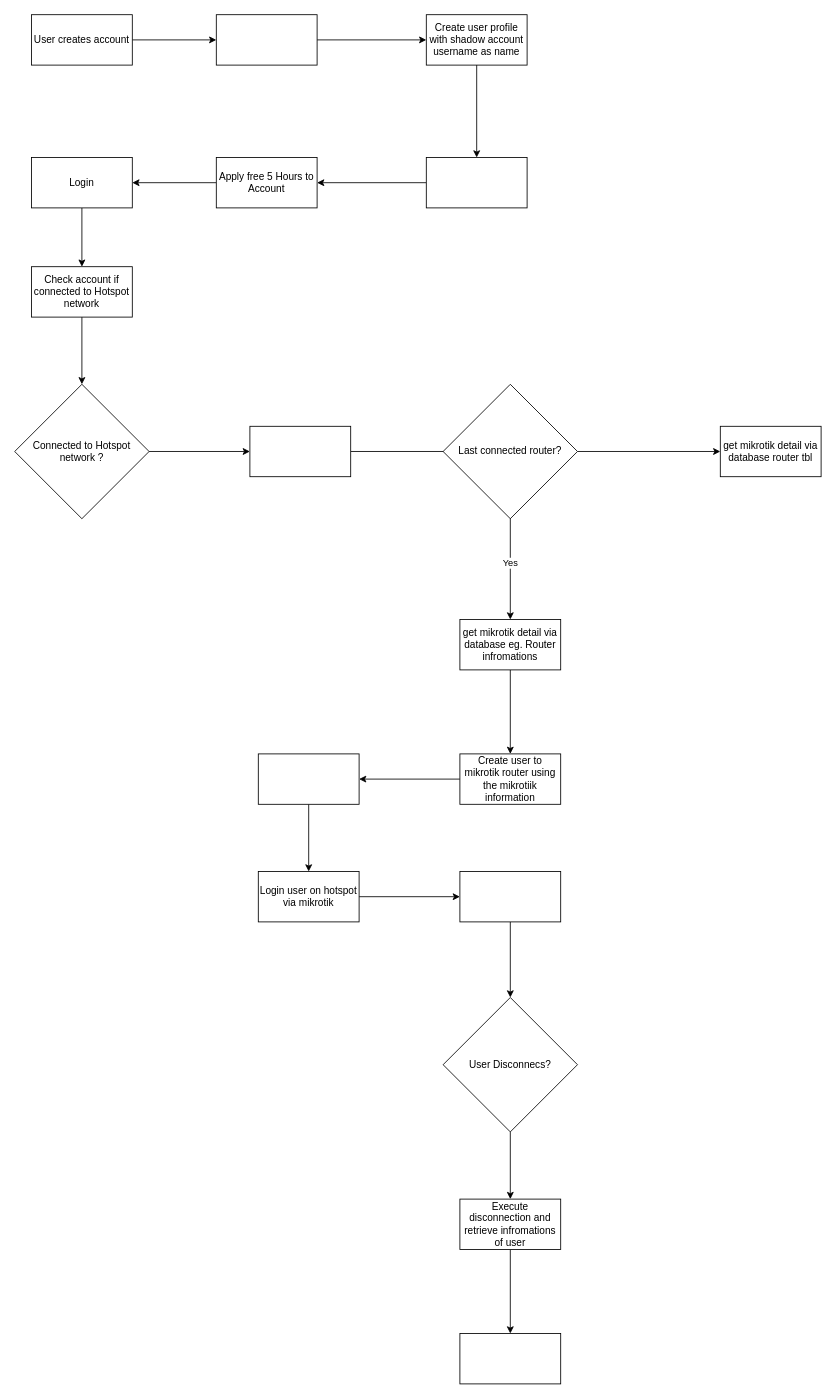
Some shapes in this 836 by 1399 pixel diagram are drawn without their labels. The centre of each missing label's shape, as x and y in pixels:
"Authenticate account and check if last connected router" belongs at (300,451).
"Display account information such as up time other menu." belongs at (510,896).
"Generates Sahadow account for hotspot" belongs at (266,39).
"Obtain IP of user" belongs at (308,778).
"save uptime infromation" belongs at (510,1358).
"Verify Account SMS" belongs at (476,182).
